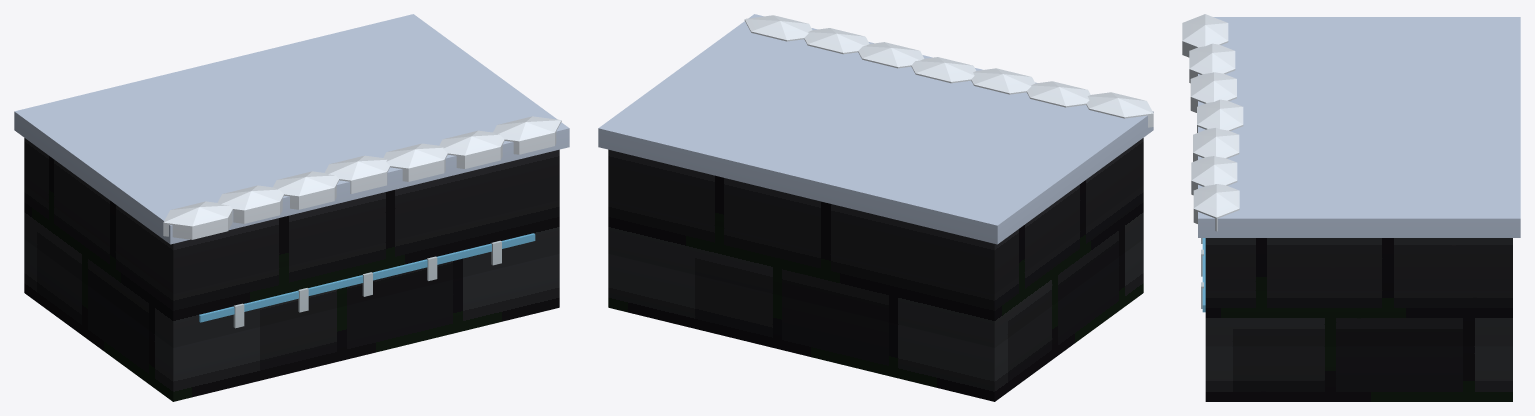
The model's file is frost_ledge.glb.
3 views of the same model, side by side, from view 1: azimuth 30°, elevation 25°; view 2: azimuth 150°, elevation 25°; view 3: azimuth 270°, elevation 25° (orthographic). The views are drawn at different scales.
Visible parts, largest first — view 1: frost_ledge; view 2: frost_ledge; view 3: frost_ledge.
Boxes of the visible parts, x1=… form: frost_ledge: x1=14, y1=14, x2=569, y2=401; frost_ledge: x1=598, y1=14, x2=1153, y2=401; frost_ledge: x1=1182, y1=14, x2=1520, y2=401.
Bounding box in the file's own units: 3.13 × 1.4 × 2.2.
3 materials, 1 textured.
